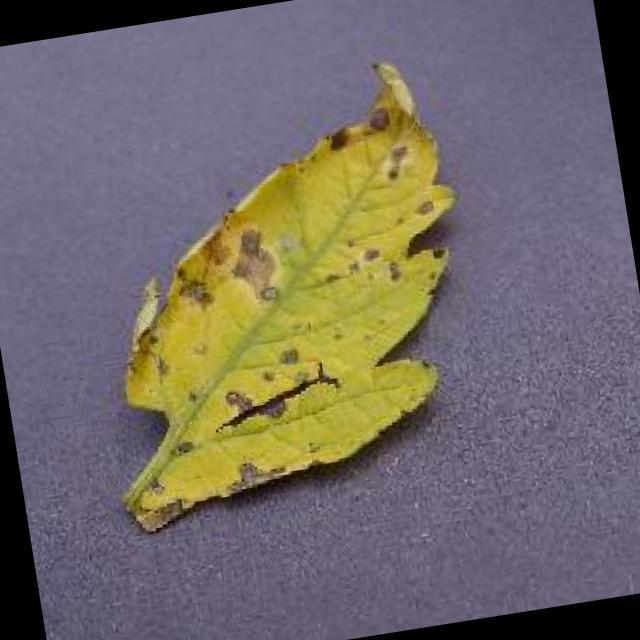Tomato Septoria spot leaf: (72, 46, 501, 539)
